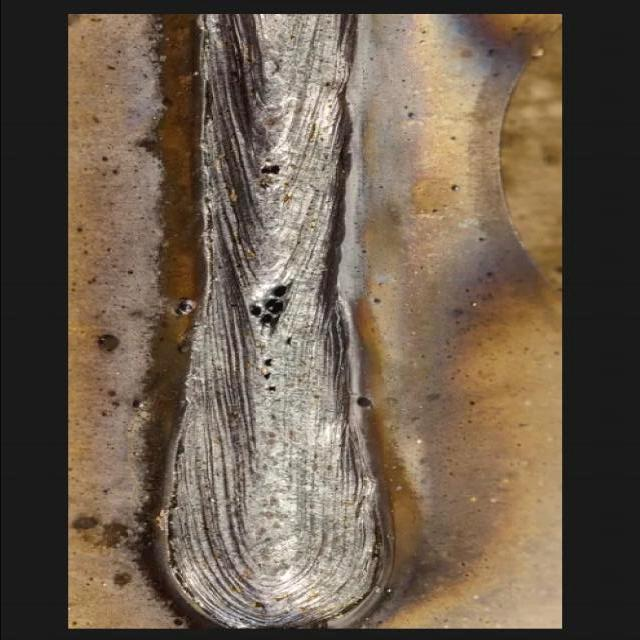defect: (243, 279, 295, 340), (257, 355, 278, 395), (256, 156, 281, 178), (354, 395, 373, 409), (284, 335, 295, 347)
